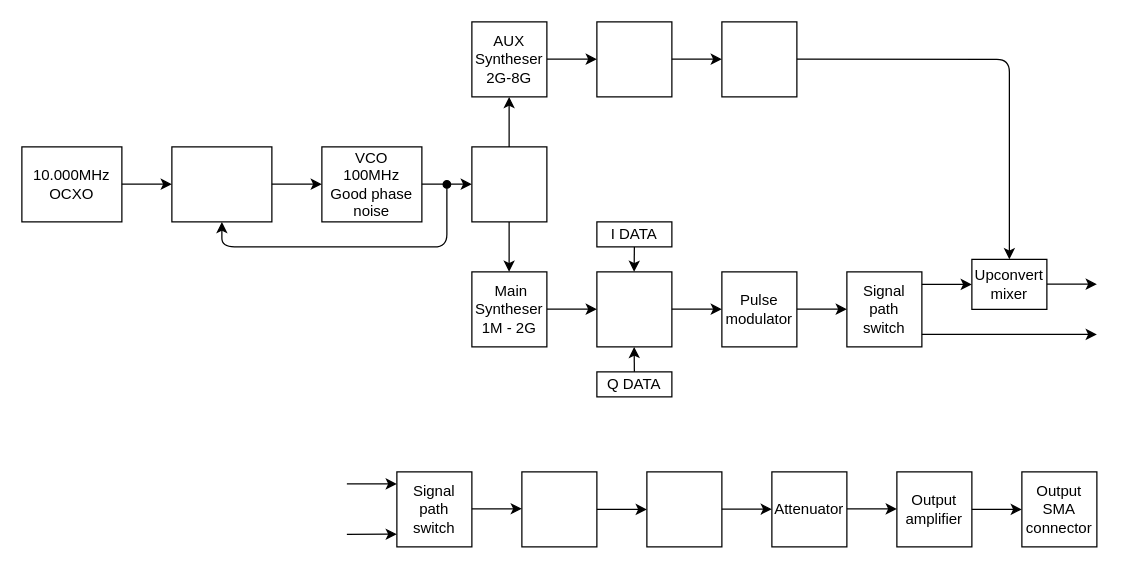
Image size: 1129x569. Some labels were removed from this diagram. The shapes that lost their labels are listed below. From the top down, each one's box as (x1, y1, x2, y2) in pixels, then its label:
(596, 21, 672, 97): Amplitude control
(721, 21, 797, 97): Filtering
(171, 146, 272, 222): PLL with external VCO
(471, 146, 547, 222): Splitter
(596, 271, 672, 347): Modulator
(521, 471, 597, 547): Amplitude control +40dB
(646, 471, 722, 547): Harmonic filter bank
